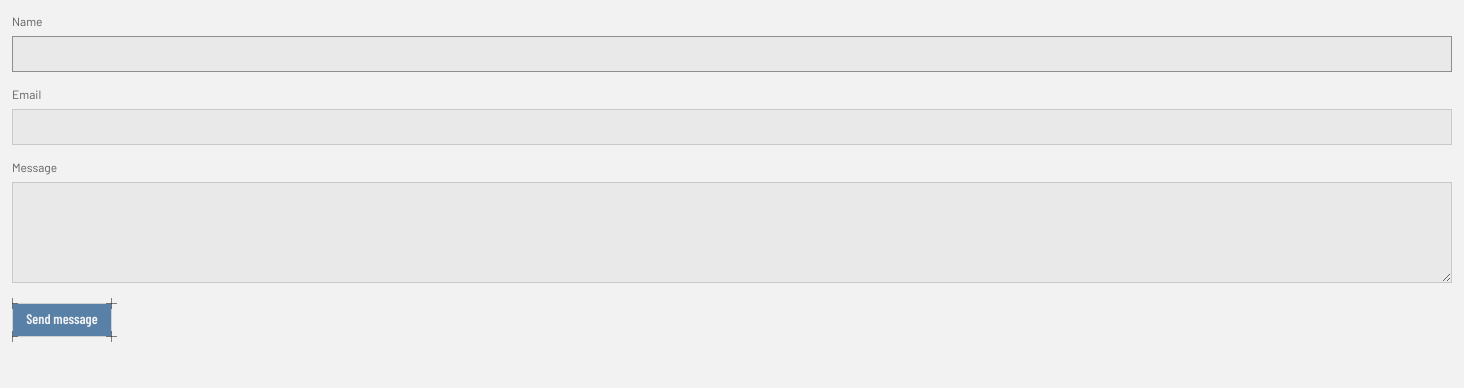
ContactForm › reports that the form is not configured when the endpoint is unset
The image size is (1464, 388).
Type "Ada" into the field labelled "Name" at [732, 54], box [12,36,1452,72]
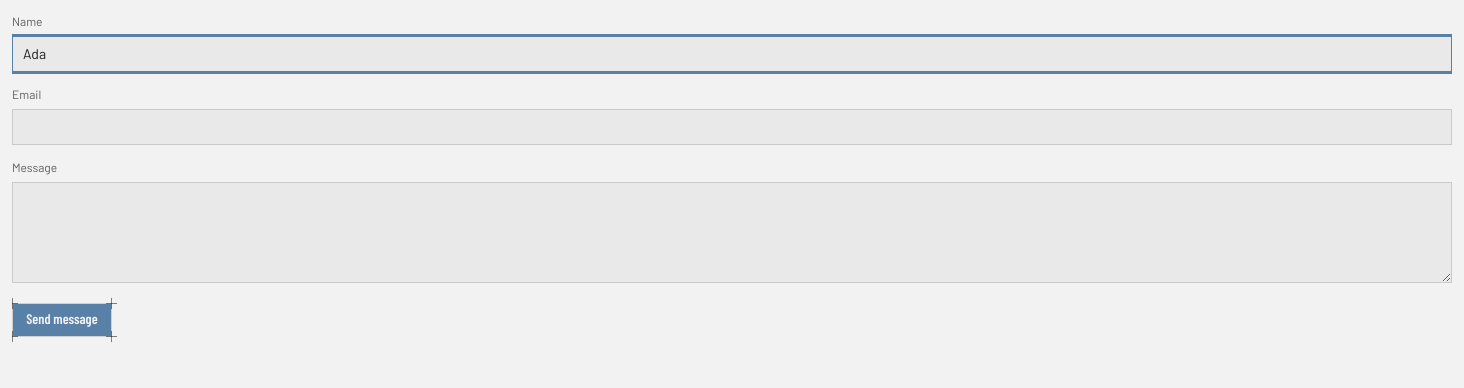
Type "ada@example.com" into the field labelled "Email" at [732, 127], box [12,109,1452,145]
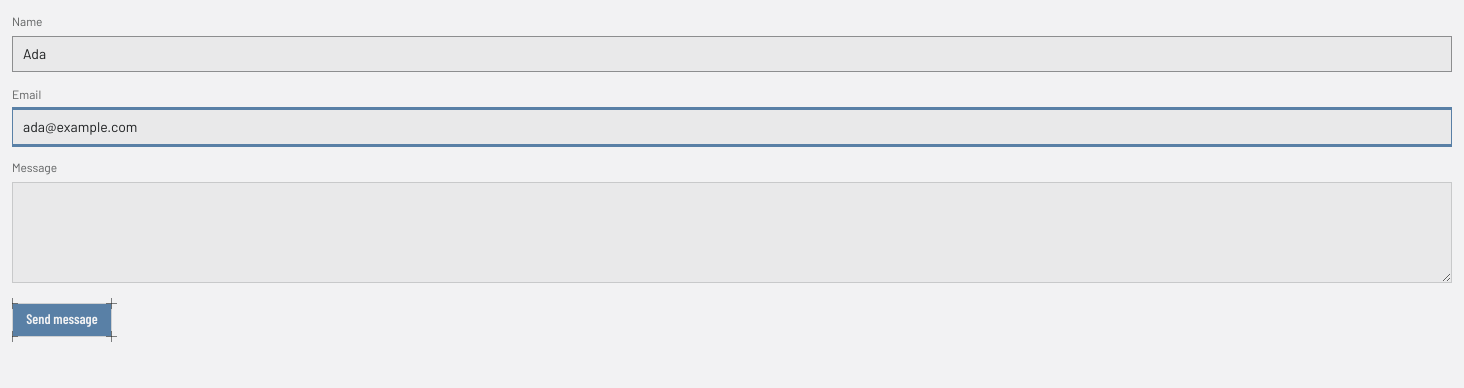
Type "Hello" into the text box labelled "Message" at [732, 232], box [12,182,1452,283]
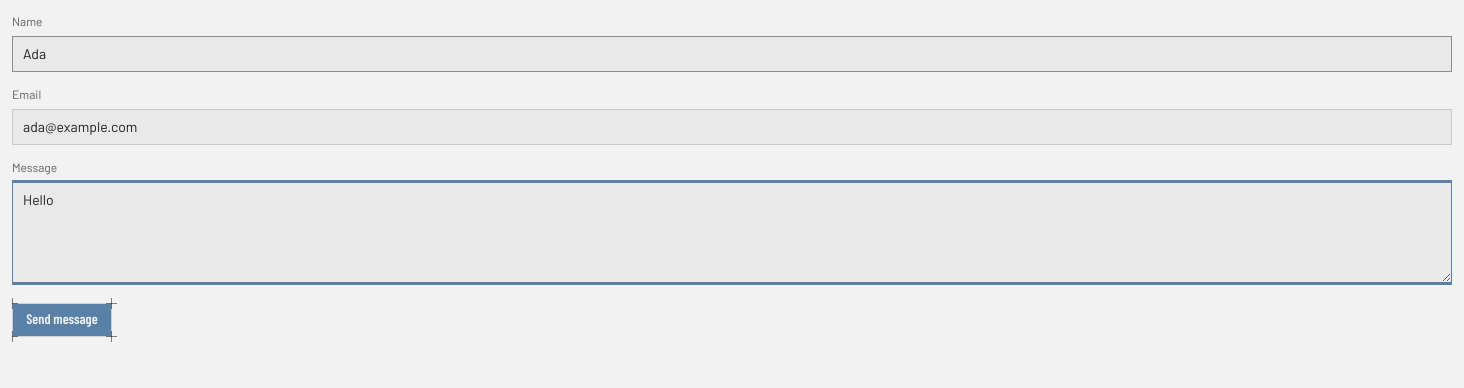
Click the button "Send message" at [62, 320], box [13,304,111,336]
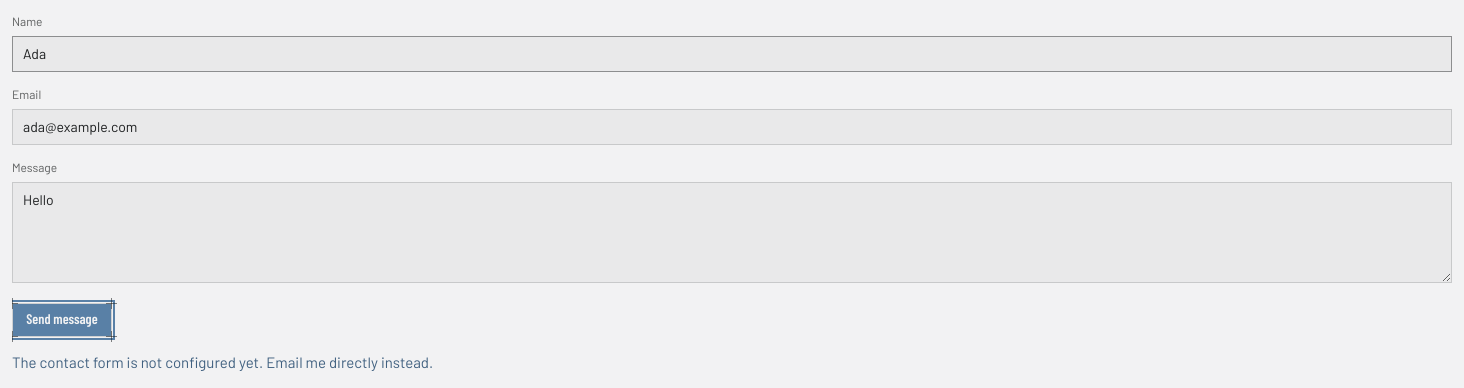
Check: the message shows "not configured", box [12,352,433,370]
